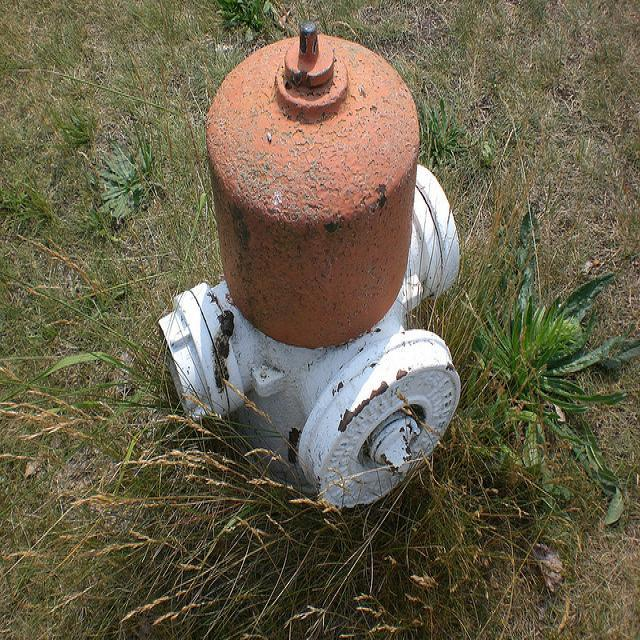fire_hydrant: (157, 26, 462, 510)
